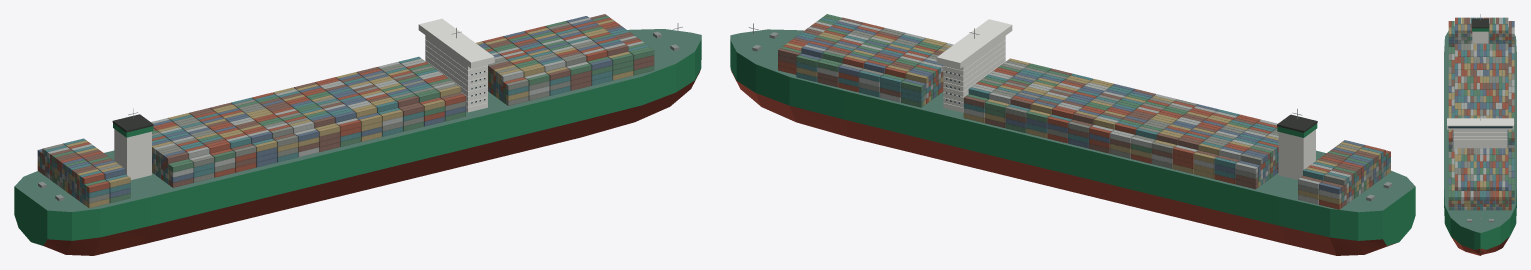
Rendered from earth3d2-ever-given.glb.
The picture shows the model from 3 angles, left to right: view 1: azimuth 30°, elevation 25°; view 2: azimuth 150°, elevation 25°; view 3: azimuth 270°, elevation 25°; orthographic projection. The views are drawn at different scales.
Parts seen in each view (by area): view 1: Upper green hull, Lower hull, Authored main deck outline, Original container color 4, Original container color 3, Original container color 6, Original container color 8, Original container color 2, Accommodation and bridge, Original container color 1, Original container color 7, Original container color 5 (+2 smaller); view 2: Upper green hull, Lower hull, Original container color 3, Original container color 7, Authored main deck outline, Original container color 6, Original container color 4, Original container color 2, Accommodation and bridge, Original container color 5, Original container color 8, Original container color 1 (+2 smaller); view 3: Authored main deck outline, Accommodation and bridge, Original container color 3, Original container color 4, Original container color 2, Original container color 6, Original container color 5, Original container color 7, Original container color 1, Original container color 8, Upper green hull, Lower hull (+4 smaller).
Part boxes in pixels (x1=…): Upper green hull: x1=47, y1=35, x2=701, y2=240; Lower hull: x1=43, y1=69, x2=700, y2=255; Authored main deck outline: x1=14, y1=29, x2=701, y2=211; Original container color 4: x1=37, y1=19, x2=633, y2=208; Original container color 3: x1=37, y1=17, x2=641, y2=193; Original container color 6: x1=40, y1=14, x2=654, y2=200; Original container color 8: x1=42, y1=23, x2=597, y2=204; Original container color 2: x1=37, y1=16, x2=624, y2=198; Accommodation and bridge: x1=114, y1=18, x2=494, y2=179; Original container color 1: x1=40, y1=16, x2=654, y2=203; Original container color 7: x1=40, y1=28, x2=649, y2=202; Original container color 5: x1=37, y1=17, x2=644, y2=188; Upper green hull: x1=730, y1=39, x2=1382, y2=240; Lower hull: x1=731, y1=70, x2=1395, y2=255; Original container color 3: x1=778, y1=22, x2=1390, y2=209; Original container color 7: x1=796, y1=17, x2=1390, y2=202; Authored main deck outline: x1=730, y1=29, x2=1415, y2=212; Original container color 6: x1=778, y1=17, x2=1385, y2=207; Original container color 4: x1=785, y1=32, x2=1390, y2=204; Original container color 2: x1=795, y1=21, x2=1388, y2=197; Accommodation and bridge: x1=936, y1=19, x2=1315, y2=179; Original container color 5: x1=804, y1=19, x2=1378, y2=204; Original container color 8: x1=822, y1=28, x2=1390, y2=203; Original container color 1: x1=780, y1=14, x2=1388, y2=198; Authored main deck outline: x1=1444, y1=24, x2=1516, y2=232; Accommodation and bridge: x1=1447, y1=31, x2=1513, y2=159; Original container color 3: x1=1448, y1=17, x2=1514, y2=210; Original container color 4: x1=1448, y1=17, x2=1514, y2=210; Original container color 2: x1=1448, y1=17, x2=1514, y2=210; Original container color 6: x1=1448, y1=17, x2=1514, y2=210; Original container color 5: x1=1451, y1=17, x2=1514, y2=210; Original container color 7: x1=1448, y1=17, x2=1514, y2=210; Original container color 1: x1=1448, y1=17, x2=1514, y2=210; Original container color 8: x1=1448, y1=17, x2=1514, y2=210; Upper green hull: x1=1444, y1=190, x2=1516, y2=249; Lower hull: x1=1451, y1=237, x2=1509, y2=255.
Bounding box in the file's own units: 400 × 71 × 58.8.
15 materials, 8 textured.
